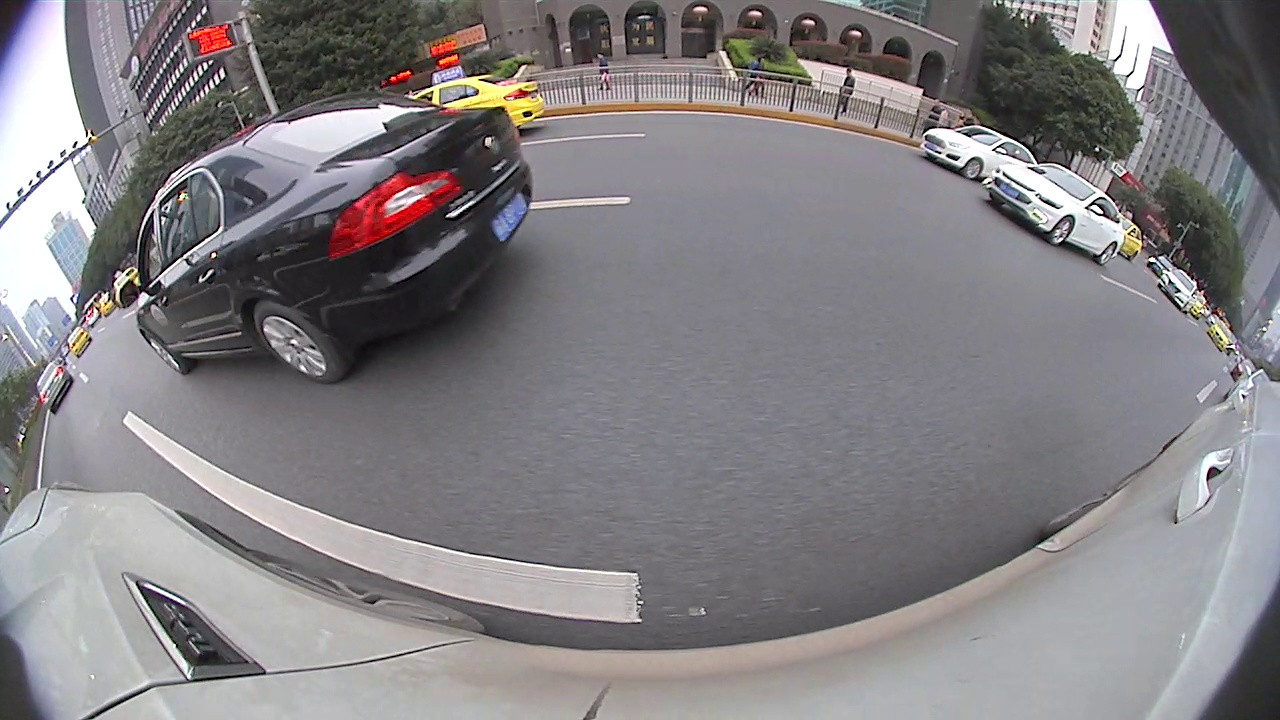car: (120, 97, 533, 389), (985, 159, 1121, 268), (413, 71, 549, 128), (922, 124, 1039, 181), (33, 363, 78, 409), (1159, 265, 1198, 307), (1115, 217, 1145, 258), (68, 325, 93, 355)
front: (135, 325, 192, 378), (1047, 212, 1075, 248), (960, 159, 983, 181)
rear: (251, 296, 356, 383), (1094, 241, 1120, 266)
